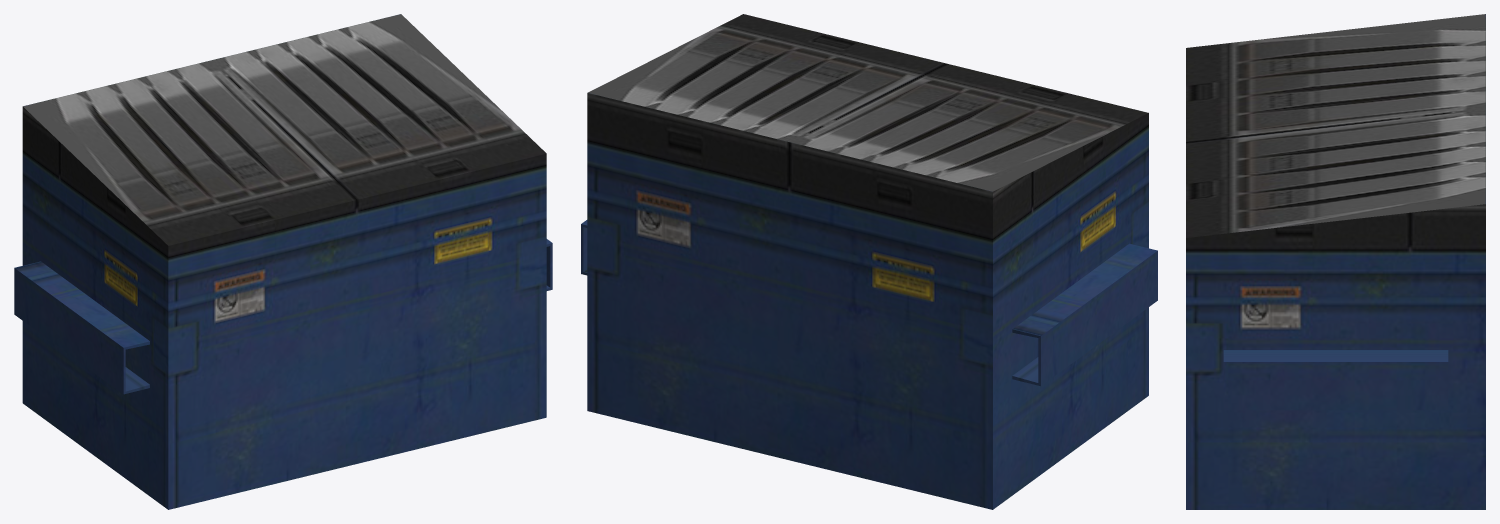
Rendered from dumpster.fbx.
3 renders of one model, left to right at view 1: azimuth 30°, elevation 25°; view 2: azimuth 150°, elevation 25°; view 3: azimuth 270°, elevation 25°, orthographic. The views are drawn at different scales.
Parts seen in each view (by area): view 1: dumpster, arm.001; view 2: dumpster, arm.001; view 3: dumpster, arm.
Boxes of the visible parts, x1,y1,x2,y2 form: dumpster: (22, 14, 546, 509); arm.001: (14, 261, 149, 394); dumpster: (587, 14, 1148, 509); arm.001: (1012, 243, 1157, 386); dumpster: (1186, 14, 1485, 509); arm: (1223, 350, 1448, 410).
Size of the model in its own units: 170 by 112 by 100.
2 materials, 2 textured.
